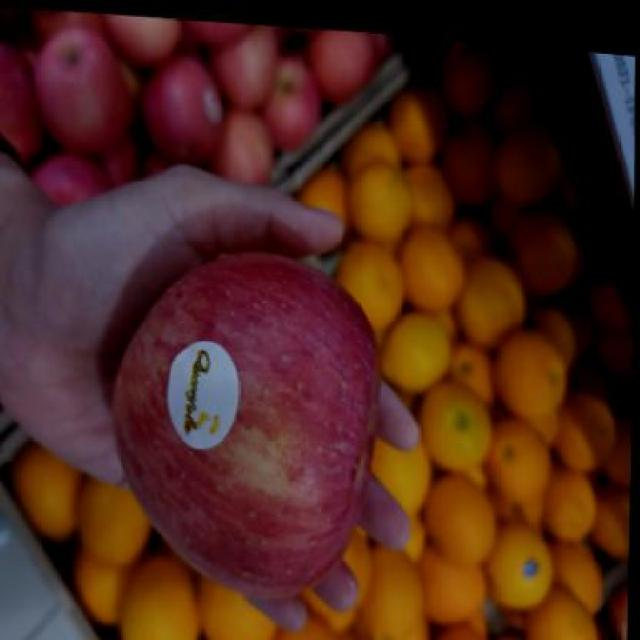Fresh Apple: (124, 240, 378, 606)
